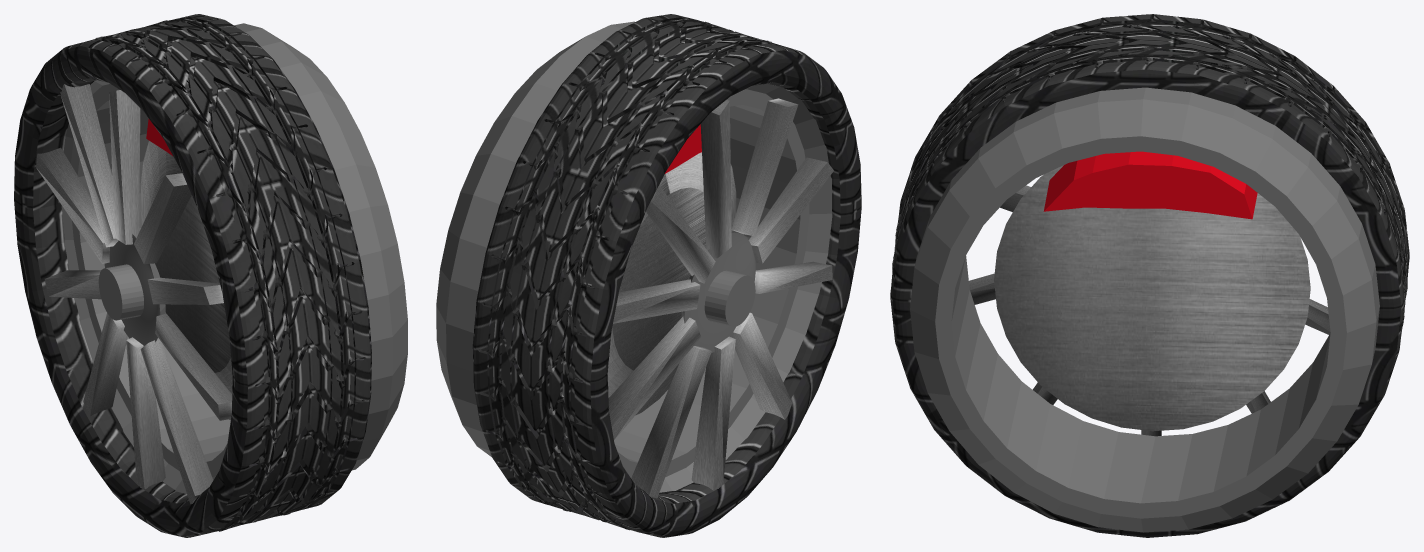
Rendered from llanta_1.dae.
The picture shows the model from 3 angles, left to right: view 1: azimuth 30°, elevation 25°; view 2: azimuth 150°, elevation 25°; view 3: azimuth 270°, elevation 25°; orthographic projection.
Parts seen in each view (by area): view 1: Окружность; view 2: Окружность; view 3: Окружность.
Boxes of the visible parts, x1,y1,x2,y2 form: Окружность: [14, 14, 407, 537]; Окружность: [436, 14, 861, 537]; Окружность: [890, 14, 1409, 537].
Bounding box in the file's own units: 0.3981 × 0.8182 × 0.8161.
